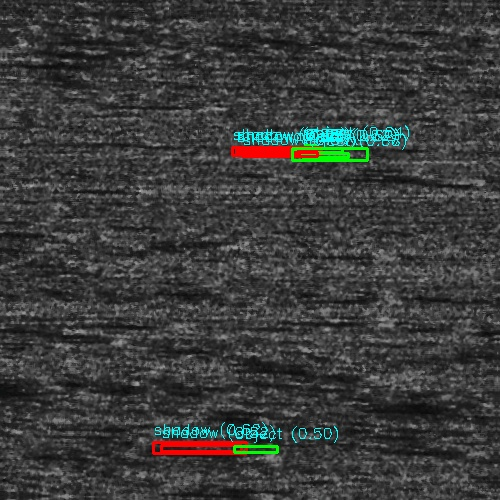rock: (6, 173, 69, 178), (276, 104, 307, 107)
shadow: (38, 173, 134, 178), (292, 104, 414, 107)
